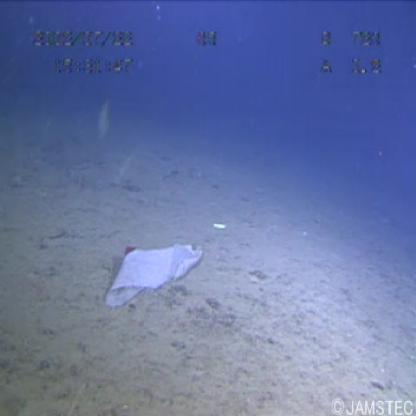Rác: (83, 235, 219, 314)
